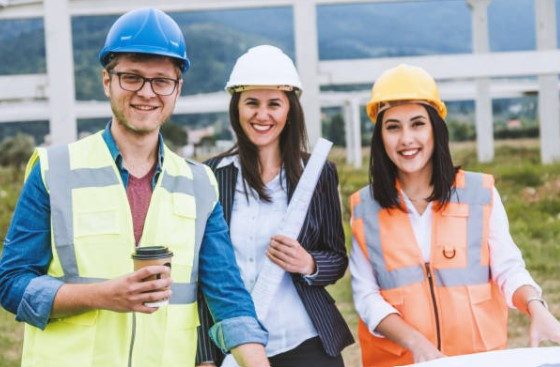worker: (21, 6, 216, 367), (348, 64, 508, 367)
